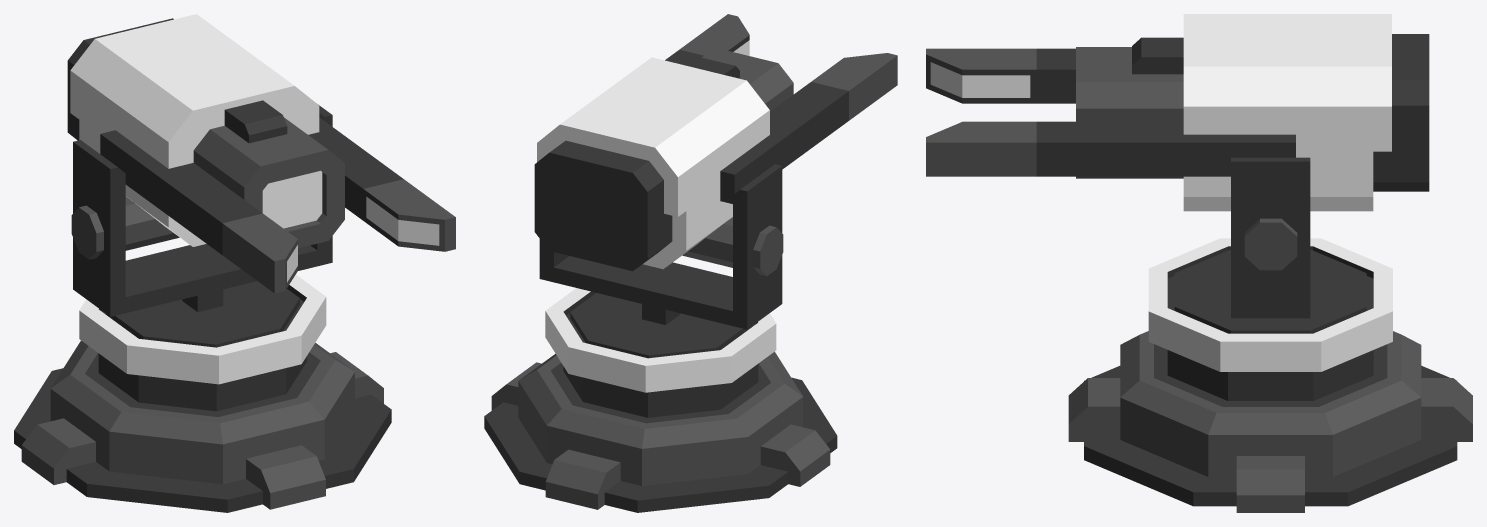
File: Shock_1.fbx
3 renders of one model, left to right at view 1: azimuth 30°, elevation 25°; view 2: azimuth 150°, elevation 25°; view 3: azimuth 270°, elevation 25°, orthographic. The views are drawn at different scales.
Parts seen in each view (by area): view 1: Body_Mesh, Base_Mesh, Upper_Mesh; view 2: Body_Mesh, Base_Mesh, Upper_Mesh; view 3: Body_Mesh, Base_Mesh, Upper_Mesh.
Boxes of the visible parts, box(x1,y1,x2,y2) form: Body_Mesh: box(67, 14, 455, 293); Base_Mesh: box(14, 340, 391, 512); Upper_Mesh: box(73, 104, 332, 411); Body_Mesh: box(534, 14, 897, 276); Base_Mesh: box(484, 351, 837, 512); Upper_Mesh: box(539, 164, 782, 417); Body_Mesh: box(926, 14, 1429, 270); Base_Mesh: box(1068, 331, 1472, 512); Upper_Mesh: box(1148, 157, 1392, 400).
Bounding box in the file's own units: 1.3 × 1.38 × 1.76.
